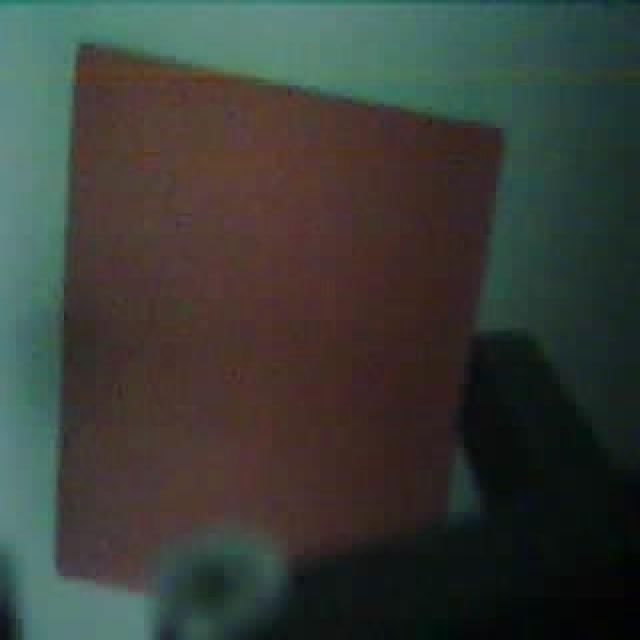red_box: (78, 48, 482, 607)
